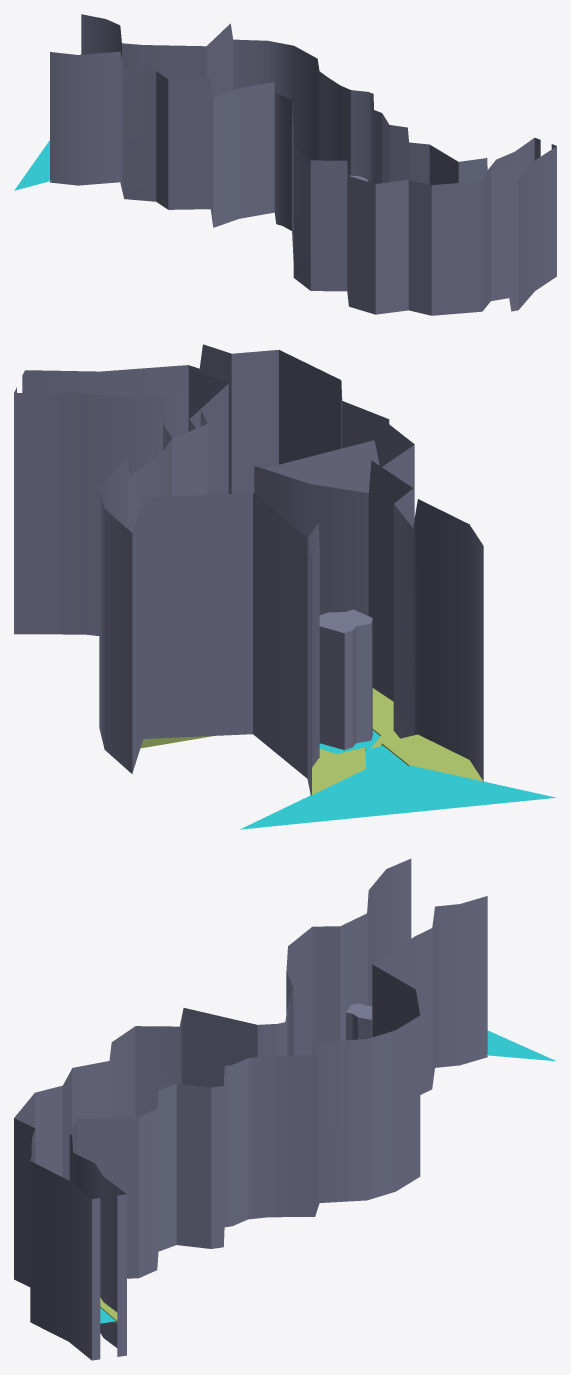
The model's file is LevelV2.fbx.
3 views of the same model, one above another, from view 1: azimuth 30°, elevation 25°; view 2: azimuth 150°, elevation 25°; view 3: azimuth 270°, elevation 25° (orthographic). The views are drawn at different scales.
Parts seen in each view (by area): view 1: polySurface18; view 2: polySurface18; view 3: polySurface18.
Part boxes in pixels (x1,y1,x2,y2): polySurface18: [14, 14, 556, 315]; polySurface18: [14, 344, 555, 829]; polySurface18: [14, 858, 556, 1360].
Size of the model in its own units: 134 by 68.65 by 123.
